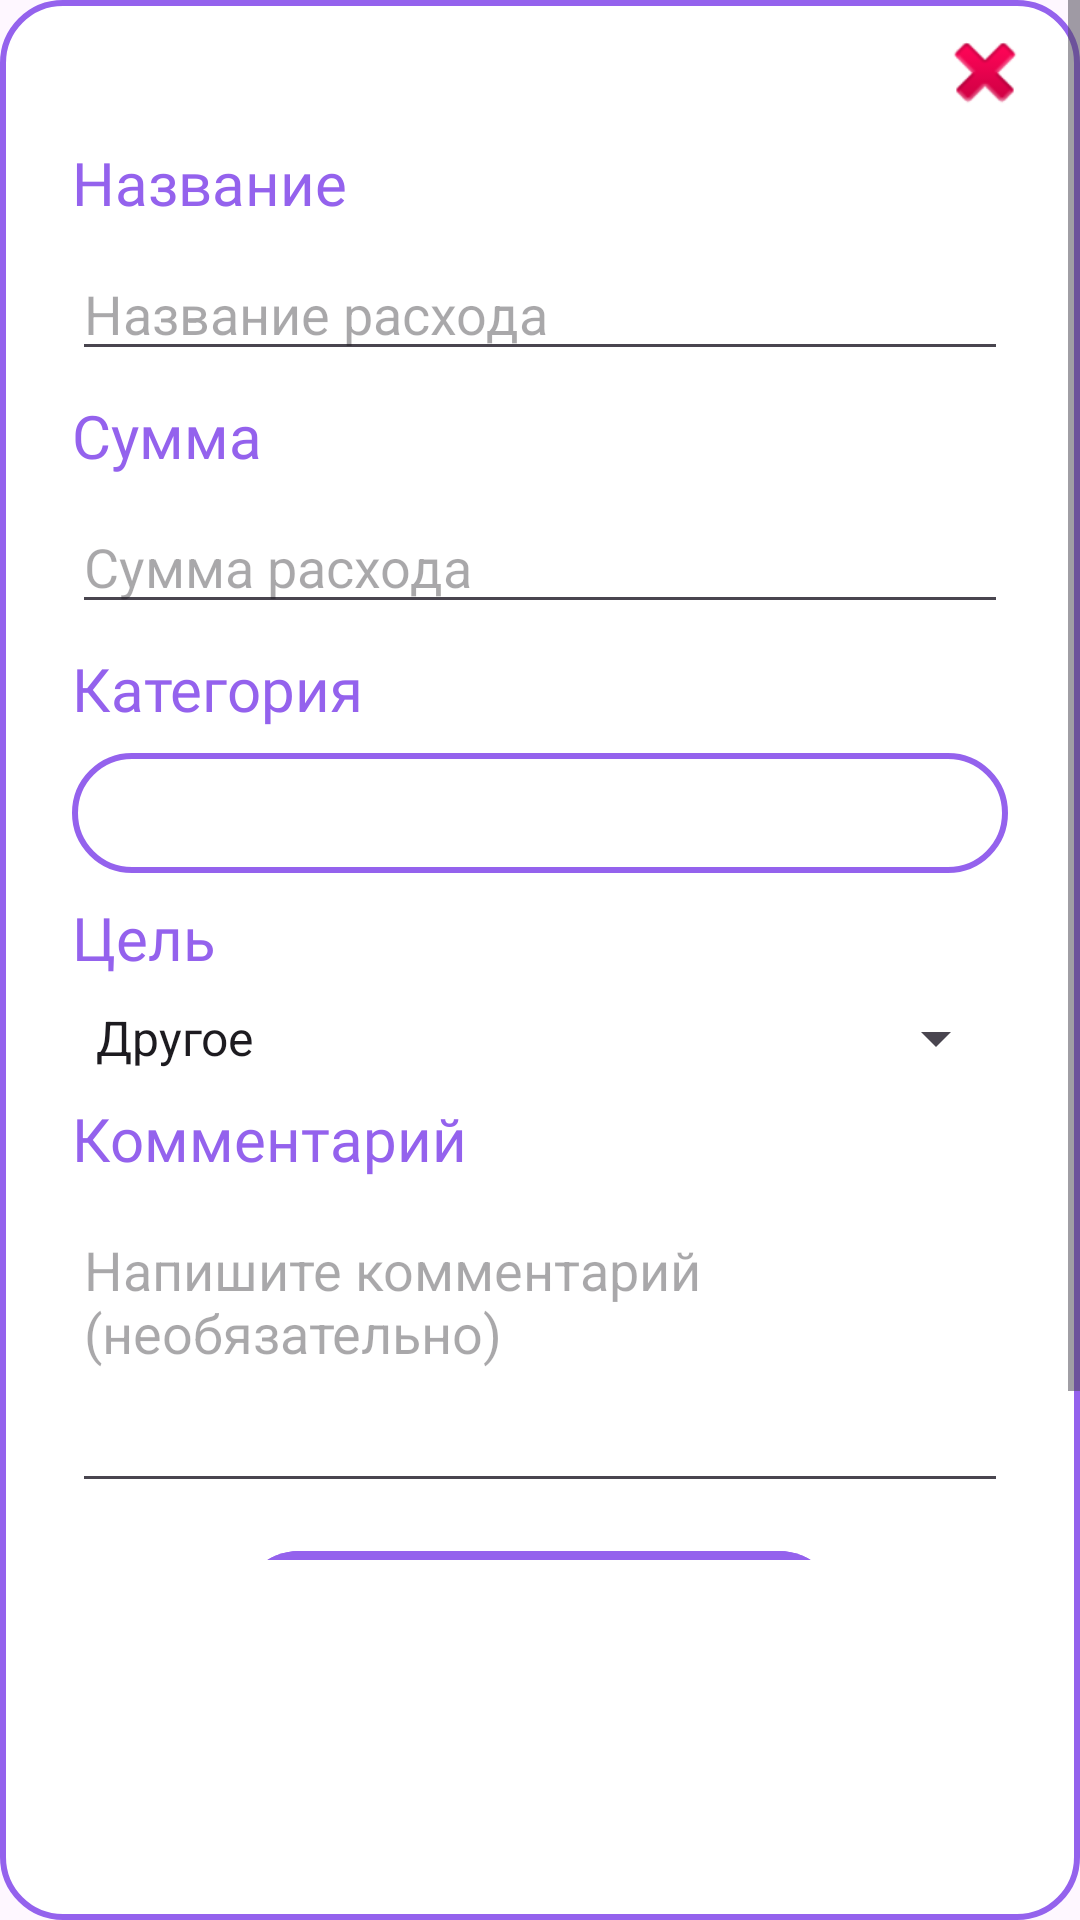

Named icons in this screenshot (1080 × 1920) and their bounding boxes, BBox(x1, y1, x2, y2):
delete: BBox(954, 43, 1016, 102)
